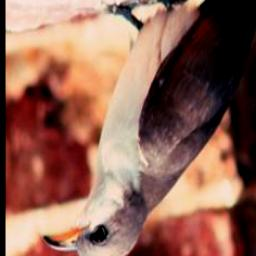Cuckoo: (42, 0, 256, 256)
